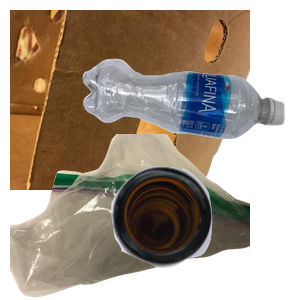cardboard: (10, 10, 250, 190)
glass: (109, 164, 300, 300)
plastic: (80, 56, 300, 187)
trash: (10, 134, 250, 300)
